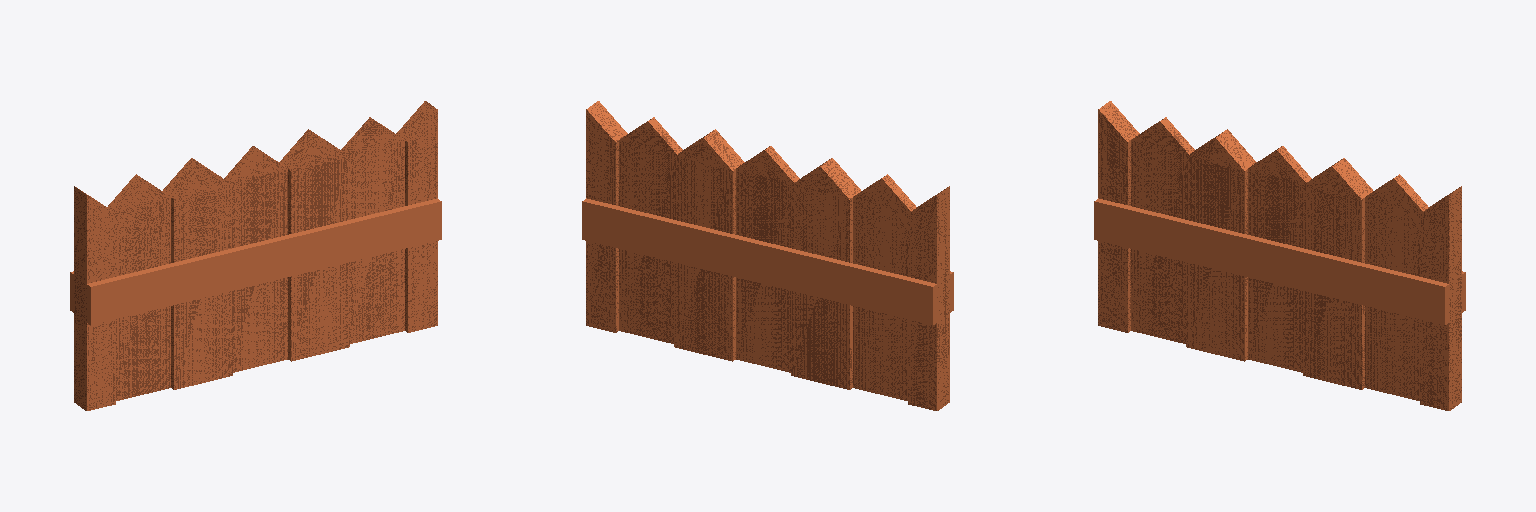
The model's file is fence.obj.
The picture shows the model from 3 angles: view 1: azimuth 30°, elevation 25°; view 2: azimuth 150°, elevation 25°; view 3: azimuth 330°, elevation 25°; orthographic projection.
Visible parts, largest first — view 1: fence, board; view 2: fence, board; view 3: fence, board.
Part boxes in pixels (left/top/right/bottom): fence: left=74, top=101, right=437, bottom=410; board: left=70, top=198, right=441, bottom=324; fence: left=586, top=101, right=949, bottom=410; board: left=582, top=198, right=953, bottom=324; fence: left=1098, top=101, right=1461, bottom=410; board: left=1094, top=198, right=1465, bottom=324.
Bounding box in the file's own units: 1 × 0.59 × 0.1.